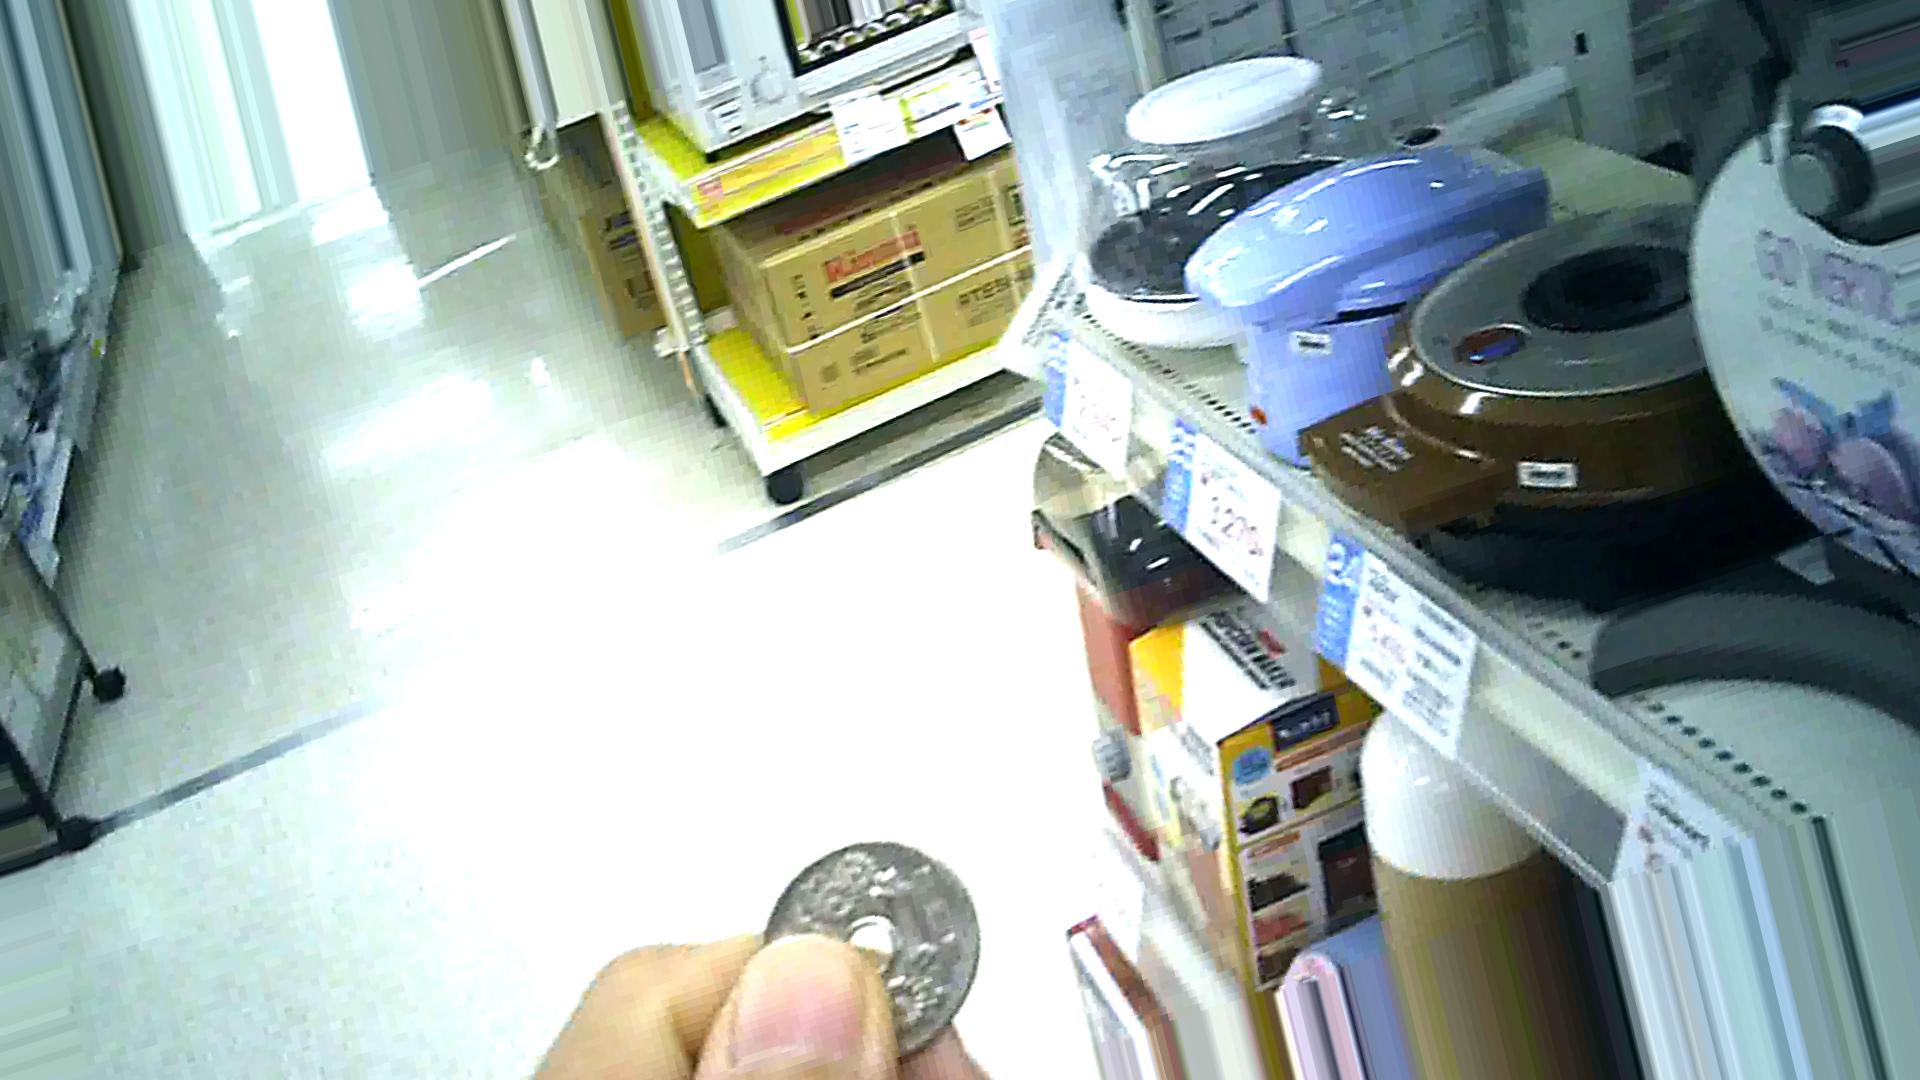50 Yen: (765, 837, 996, 1075)
